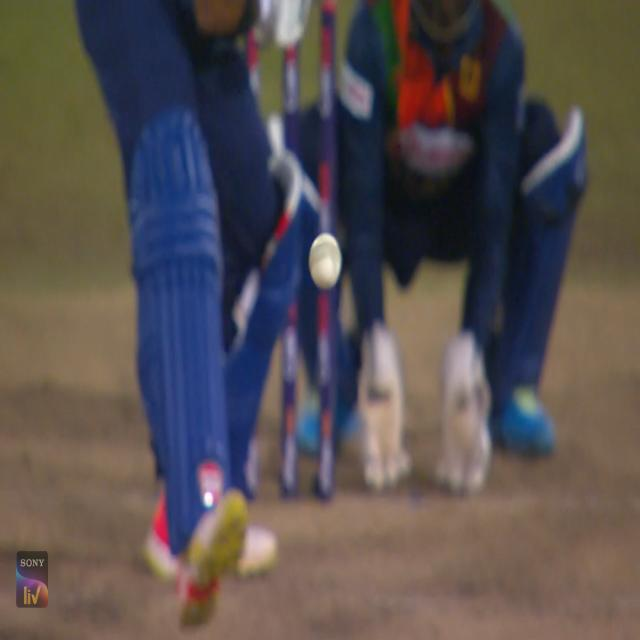ball: (309, 230, 344, 290)
